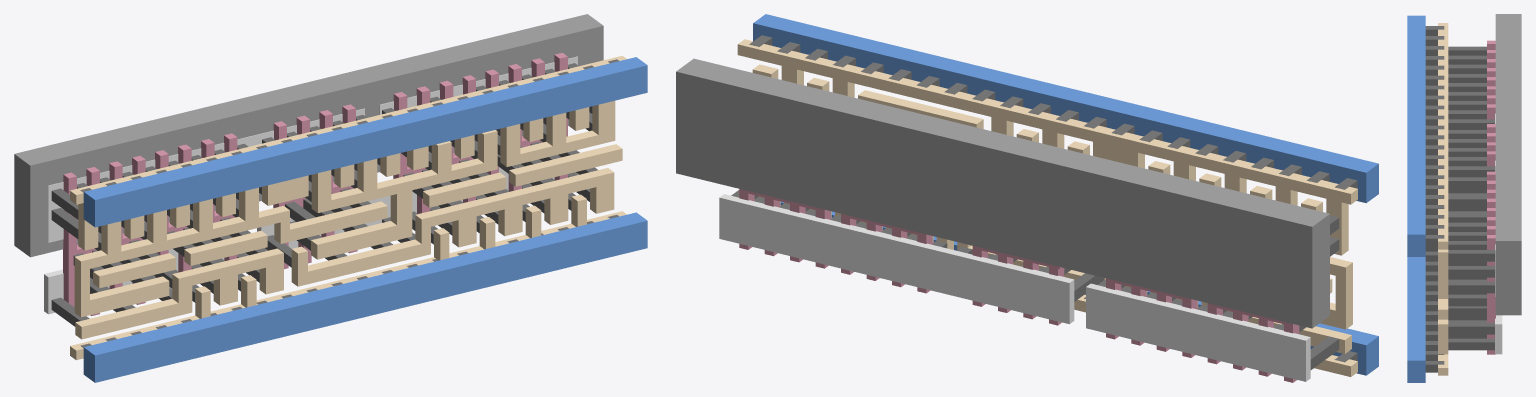
Rendered from sky130_fd_sc_hd__o2bb2ai_4.gds.gltf.
3 views of the same model, side by side, from view 1: azimuth 30°, elevation 25°; view 2: azimuth 150°, elevation 25°; view 3: azimuth 270°, elevation 25° (orthographic). The views are drawn at different scales.
Parts seen in each view (by area): view 1: sky130_fd_sc_hd__o2bb2ai_4_li1, sky130_fd_sc_hd__o2bb2ai_4_met1, sky130_fd_sc_hd__o2bb2ai_4_nwell, sky130_fd_sc_hd__o2bb2ai_4_licon, sky130_fd_sc_hd__o2bb2ai_4_poly, sky130_fd_sc_hd__o2bb2ai_4_diff, sky130_fd_sc_hd__o2bb2ai_4_mcon; view 2: sky130_fd_sc_hd__o2bb2ai_4_nwell, sky130_fd_sc_hd__o2bb2ai_4_diff, sky130_fd_sc_hd__o2bb2ai_4_li1, sky130_fd_sc_hd__o2bb2ai_4_met1, sky130_fd_sc_hd__o2bb2ai_4_poly, sky130_fd_sc_hd__o2bb2ai_4_mcon, sky130_fd_sc_hd__o2bb2ai_4_licon; view 3: sky130_fd_sc_hd__o2bb2ai_4_licon, sky130_fd_sc_hd__o2bb2ai_4_nwell, sky130_fd_sc_hd__o2bb2ai_4_met1, sky130_fd_sc_hd__o2bb2ai_4_mcon, sky130_fd_sc_hd__o2bb2ai_4_li1, sky130_fd_sc_hd__o2bb2ai_4_poly, sky130_fd_sc_hd__o2bb2ai_4_diff.
Part boxes in pixels (x1,y1,x2,y2): sky130_fd_sc_hd__o2bb2ai_4_li1: [70, 55, 626, 360]; sky130_fd_sc_hd__o2bb2ai_4_met1: [83, 57, 647, 382]; sky130_fd_sc_hd__o2bb2ai_4_nwell: [14, 14, 603, 257]; sky130_fd_sc_hd__o2bb2ai_4_licon: [51, 63, 597, 326]; sky130_fd_sc_hd__o2bb2ai_4_poly: [63, 52, 567, 315]; sky130_fd_sc_hd__o2bb2ai_4_diff: [44, 56, 577, 314]; sky130_fd_sc_hd__o2bb2ai_4_mcon: [80, 59, 618, 347]; sky130_fd_sc_hd__o2bb2ai_4_nwell: [676, 58, 1329, 328]; sky130_fd_sc_hd__o2bb2ai_4_diff: [719, 194, 1310, 381]; sky130_fd_sc_hd__o2bb2ai_4_li1: [737, 39, 1357, 376]; sky130_fd_sc_hd__o2bb2ai_4_met1: [753, 14, 1378, 375]; sky130_fd_sc_hd__o2bb2ai_4_poly: [739, 189, 1299, 382]; sky130_fd_sc_hd__o2bb2ai_4_mcon: [749, 35, 1357, 362]; sky130_fd_sc_hd__o2bb2ai_4_licon: [731, 190, 1339, 369]; sky130_fd_sc_hd__o2bb2ai_4_licon: [1448, 46, 1494, 350]; sky130_fd_sc_hd__o2bb2ai_4_nwell: [1495, 14, 1521, 315]; sky130_fd_sc_hd__o2bb2ai_4_met1: [1407, 15, 1425, 382]; sky130_fd_sc_hd__o2bb2ai_4_mcon: [1425, 26, 1444, 372]; sky130_fd_sc_hd__o2bb2ai_4_li1: [1438, 23, 1448, 375]; sky130_fd_sc_hd__o2bb2ai_4_poly: [1487, 40, 1495, 354]; sky130_fd_sc_hd__o2bb2ai_4_diff: [1495, 113, 1502, 354].
Size of the model in its own units: 10.5 by 3.2 by 2.24.
